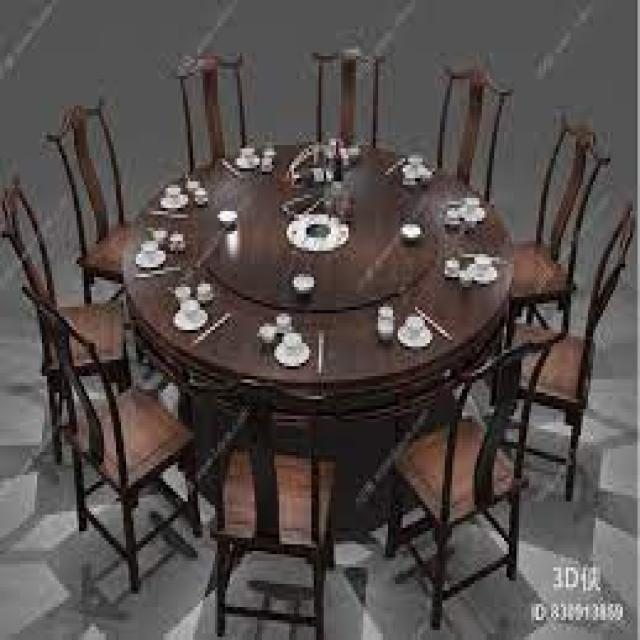table: (0, 42, 635, 640)
